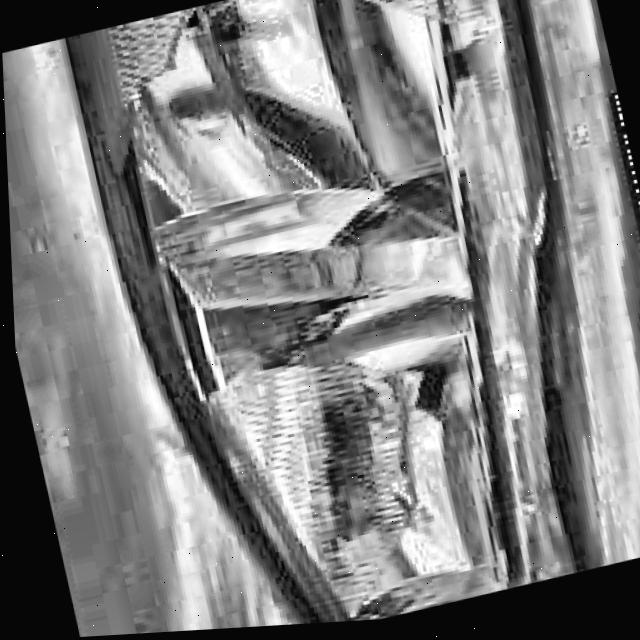head_lamp: (99, 0, 548, 365), (250, 297, 567, 626)
